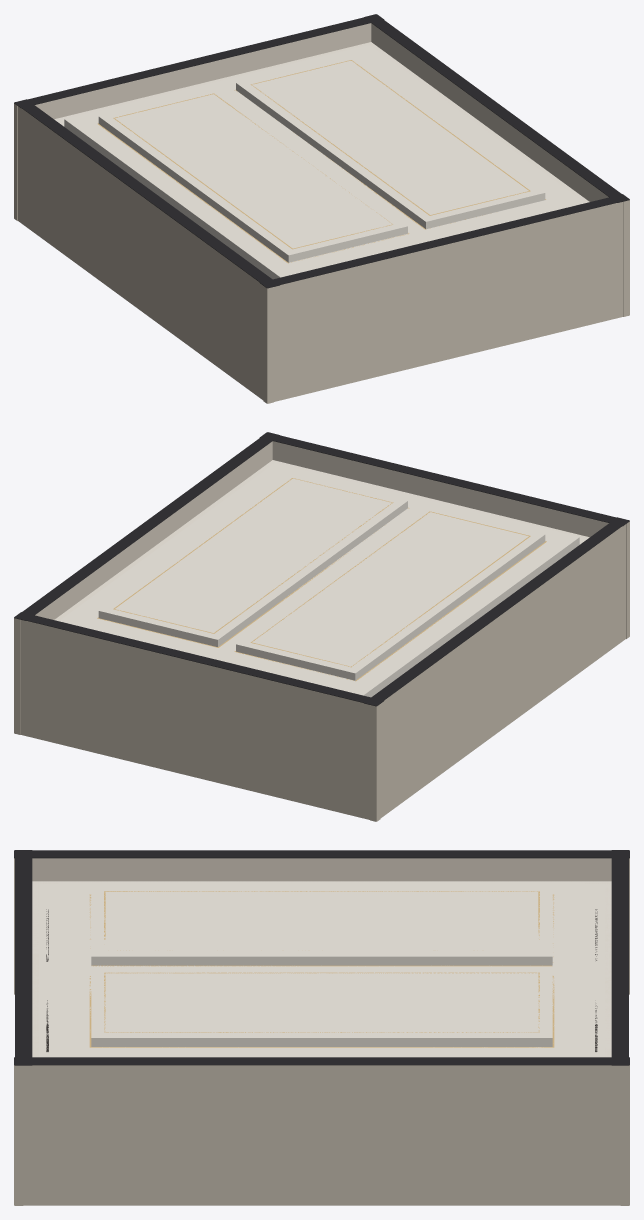
The model's file is room.glb.
The picture shows the model from 3 angles, top to bottom: view 1: azimuth 30°, elevation 25°; view 2: azimuth 150°, elevation 25°; view 3: azimuth 270°, elevation 25°; orthographic projection. The views are drawn at different scales.
Parts seen in each view (by area): view 1: shell, ceiling, ceil_gold, wall_entrance, wall_left; view 2: shell, ceiling, ceil_gold, wall_entrance; view 3: shell, ceiling, ceil_gold, wall_right, wall_left.
Boxes of the visible parts, left/top/right/bottom form: shell: left=14, top=14, right=629, bottom=403; ceiling: left=54, top=42, right=589, bottom=279; ceil_gold: left=97, top=60, right=545, bottom=263; wall_entrance: left=367, top=42, right=588, bottom=202; wall_left: left=56, top=42, right=372, bottom=120; shell: left=14, top=432, right=629, bottom=821; ceiling: left=54, top=460, right=587, bottom=697; ceil_gold: left=97, top=478, right=546, bottom=681; wall_entrance: left=54, top=460, right=276, bottom=620; shell: left=14, top=850, right=629, bottom=1205; ceiling: left=32, top=881, right=611, bottom=1057; ceil_gold: left=89, top=891, right=554, bottom=1047; wall_right: left=32, top=884, right=38, bottom=1057; wall_left: left=605, top=881, right=611, bottom=1057.
Size of the model in its own units: 18.1 by 5.52 by 21.9.
